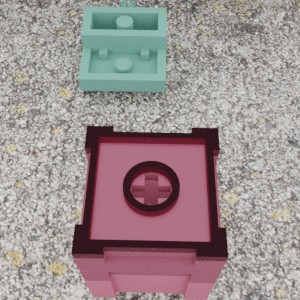lego: (71, 125, 228, 300), (78, 0, 166, 92)
